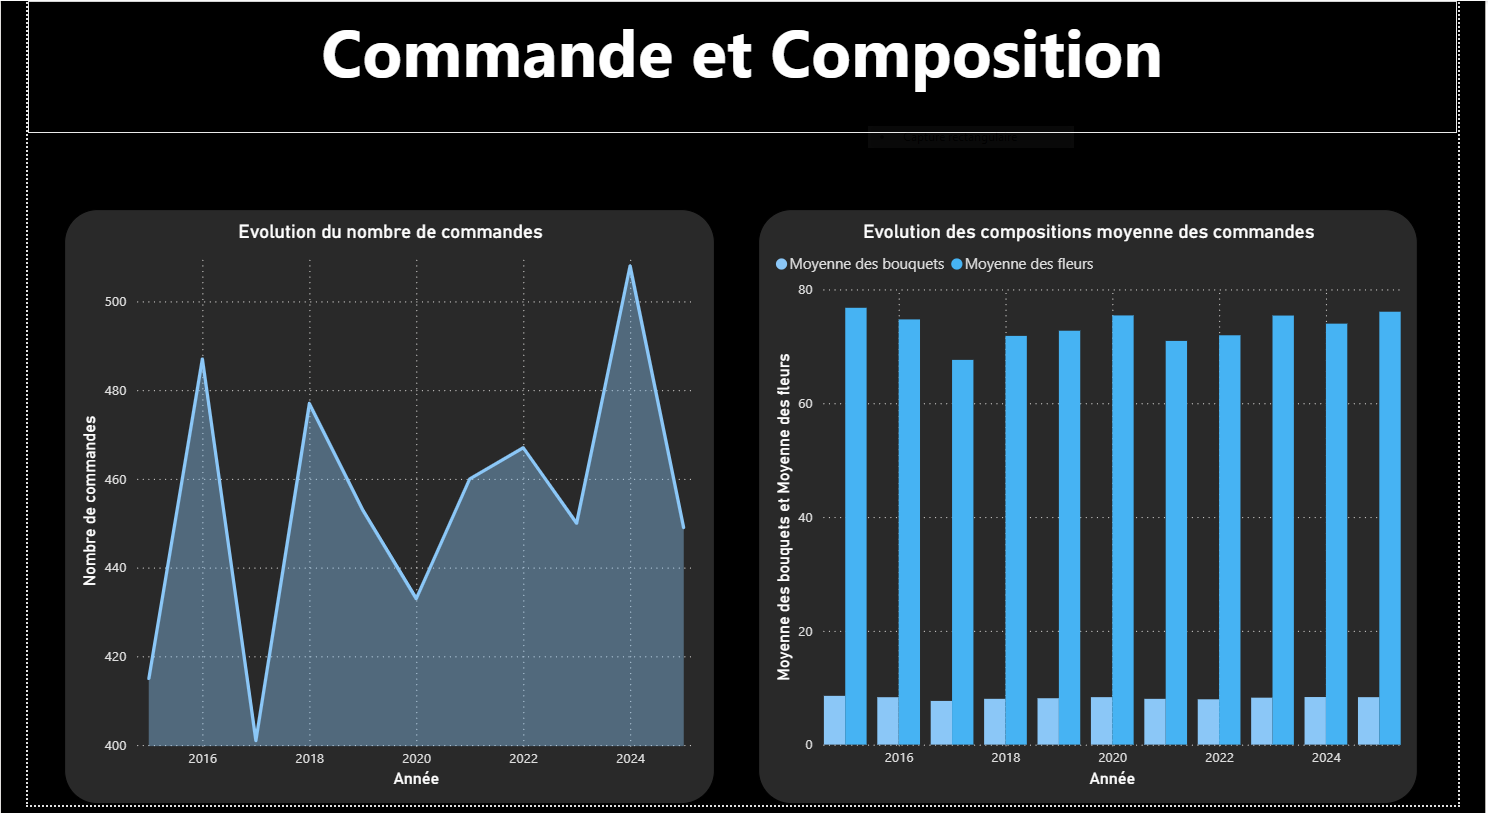

Layout of this report page (visuals, bound fields, positions):
{"tool":"powerbi","page":{"name":"Commande et Composition","canvas":[1280,720],"ordinal":3},"visuals":[{"type":"clusteredColumnChart","title":"Evolution des compositions moyenne des commandes","fields":{"Category":["SAE_COMMANDEBOUQUET.DATECOMMANDE.Variation.Hiérarchie de dates.Année","SAE_COMMANDEBOUQUET.DATECOMMANDE.Variation.Hiérarchie de dates.Trimestre","SAE_COMMANDEBOUQUET.DATECOMMANDE.Variation.Hiérarchie de dates.Mois","SAE_COMMANDEBOUQUET.DATECOMMANDE.Variation.Hiérarchie de dates.Jour"],"Y":["SAE_BOUQUET.MoyBouquetsCommande","SAE_COMPOSITION.MoyFleursCommande"]},"box":[654.1,186.2,590.5,533],"z":0},{"type":"areaChart","title":"Evolution du nombre de commandes","fields":{"Category":["SAE_COMMANDEBOUQUET.DATECOMMANDE.Variation.Hiérarchie de dates.Année","SAE_COMMANDEBOUQUET.DATECOMMANDE.Variation.Hiérarchie de dates.Trimestre","SAE_COMMANDEBOUQUET.DATECOMMANDE.Variation.Hiérarchie de dates.Mois","SAE_COMMANDEBOUQUET.DATECOMMANDE.Variation.Hiérarchie de dates.Jour"],"Y":["CountNonNull(SAE_COMMANDEBOUQUET.NUMCOMMANDE)"]},"box":[31.8,186.2,583,533],"z":1000},{"type":"textbox","box":[0,0,1279.5,117.9],"z":2000}]}

Visuals, with their boxes in screenshot pixels (x1, y1, x2, y2), scaled from the page's 1280x720 canvas onto the 1488x813 screenshot:
"Evolution des compositions moyenne des commandes" clusteredColumnChart: [760, 210, 1447, 812]
"Evolution du nombre de commandes" areaChart: [37, 210, 715, 812]
textbox: [0, 0, 1487, 133]
